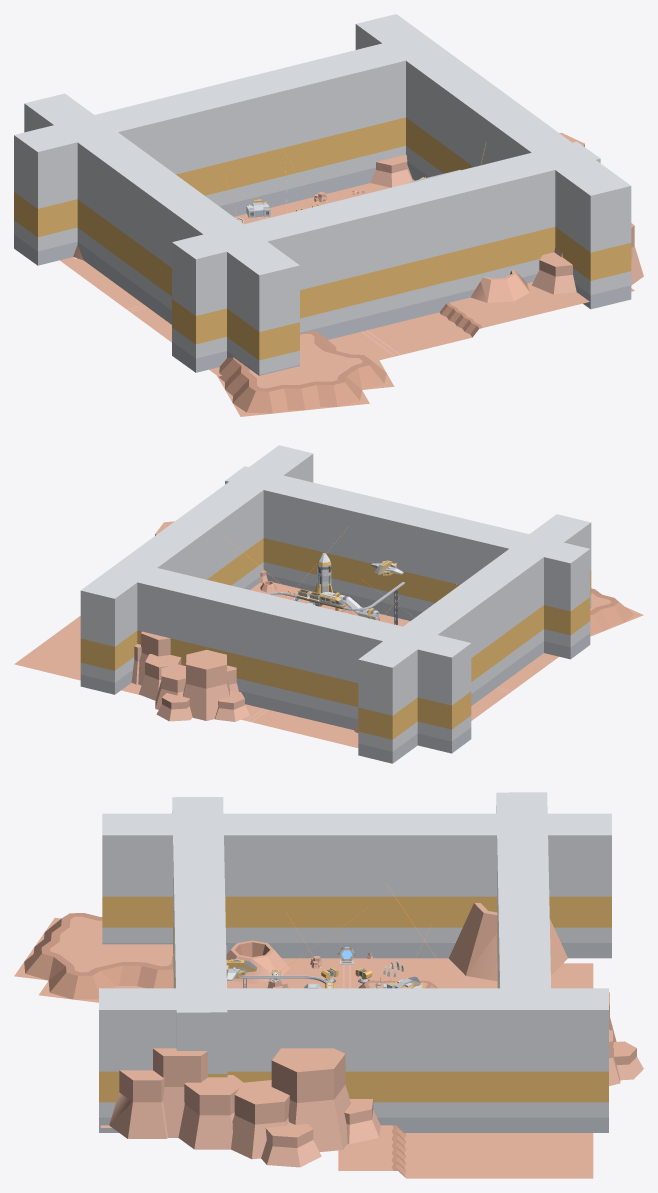
File: martian.glb
3 views of the same model, one above another, from view 1: azimuth 30°, elevation 25°; view 2: azimuth 150°, elevation 25°; view 3: azimuth 270°, elevation 25° (orthographic). The views are drawn at different scales.
Visible parts, largest first — view 1: mur.001, mur.002, mur.003, mur, rock_largeA.005, craterLarge.005, rock_largeA.010, terrain.940, terrain.941, terrain.939, terrain.933, terrain.934 (+2 smaller); view 2: mur.002, mur.001, mur.003, mur, rock_largeA.009, rock_largeA.010, terrain.942; view 3: mur.003, mur, mur.001, rock_largeA.006, mur.002, rock_largeA.005, craterLarge.006, craterLarge.004, rock_largeA.009, terrain.937, terrain.932, terrain.933 (+5 smaller).
Part boxes in pixels (bbox=[...]): mur.001: bbox=[172, 141, 600, 372]; mur.002: bbox=[14, 36, 432, 265]; mur.003: bbox=[24, 93, 299, 375]; mur: bbox=[355, 14, 631, 309]; rock_largeA.005: bbox=[532, 223, 643, 294]; craterLarge.005: bbox=[470, 269, 529, 302]; rock_largeA.010: bbox=[370, 154, 412, 187]; terrain.940: bbox=[265, 381, 304, 413]; terrain.941: bbox=[298, 378, 337, 410]; terrain.939: bbox=[233, 385, 272, 416]; terrain.933: bbox=[354, 359, 394, 389]; terrain.934: bbox=[330, 376, 369, 406]; mur.002: bbox=[108, 568, 471, 753]; mur.001: bbox=[225, 466, 590, 659]; mur.003: bbox=[358, 514, 591, 763]; mur: bbox=[80, 445, 313, 694]; rock_largeA.009: bbox=[155, 649, 249, 721]; rock_largeA.010: bbox=[131, 631, 181, 700]; terrain.942: bbox=[590, 602, 623, 631]; mur.003: bbox=[102, 813, 611, 958]; mur: bbox=[99, 988, 608, 1132]; mur.001: bbox=[172, 797, 227, 1077]; rock_largeA.006: bbox=[231, 1048, 380, 1167]; mur.002: bbox=[496, 792, 551, 1007]; rock_largeA.005: bbox=[109, 1048, 243, 1149]; craterLarge.006: bbox=[449, 903, 567, 981]; craterLarge.004: bbox=[226, 940, 289, 983]; rock_largeA.009: bbox=[575, 986, 643, 1085]; terrain.937: bbox=[118, 958, 162, 988]; terrain.932: bbox=[73, 968, 114, 1002]; terrain.933: bbox=[39, 966, 82, 999].
Bounding box in the file's own units: 36.65 × 8.73 × 37.07.
